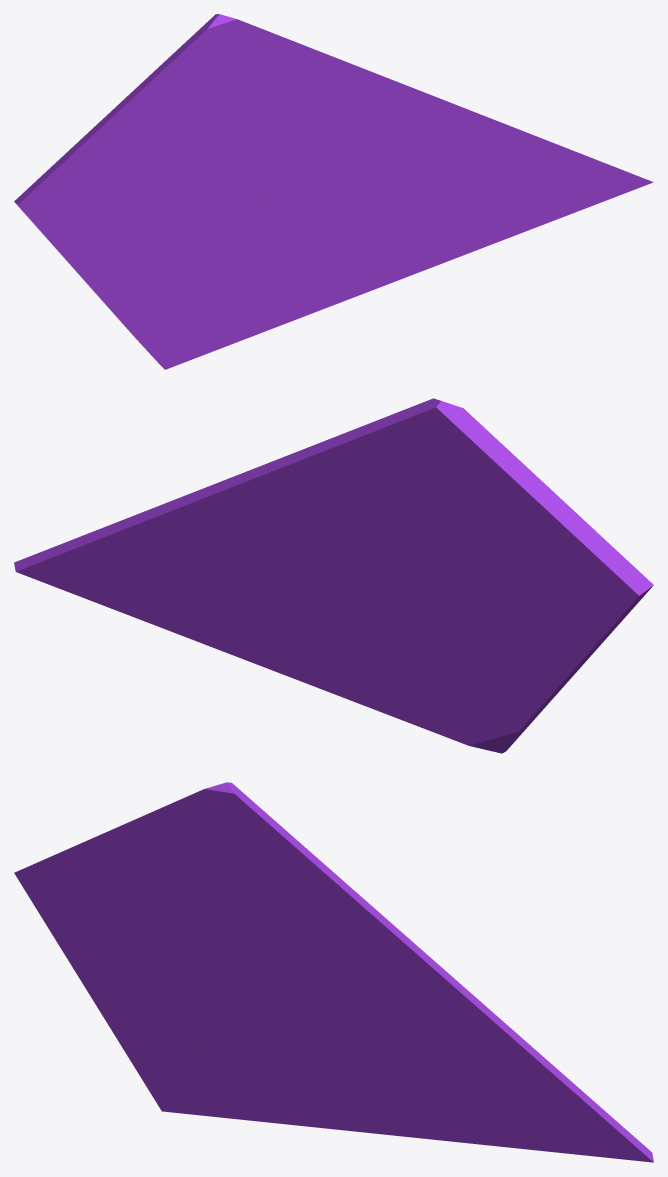
The model's file is Glass_83_1_23_chunks.fbx.
3 renders of one model, top to bottom at view 1: azimuth 30°, elevation 25°; view 2: azimuth 150°, elevation 25°; view 3: azimuth 330°, elevation 25°, orthographic.
Parts seen in each view (by area): view 1: Glass_83_1_23_0, Glass_83_1_23_10, Glass_83_1_23_9, Glass_83_1_23_15, Glass_83_1_23_13, Glass_83_1_23_14, Glass_83_1_23_12, Glass_83_1_23_5, Glass_83_1_23_17, Glass_83_1_23_16, Glass_83_1_23_7, Glass_83_1_23_6 (+2 smaller); view 2: Glass_83_1_23_0, Glass_83_1_23_8, Glass_83_1_23_2, Glass_83_1_23_16, Glass_83_1_23_7, Glass_83_1_23_15, Glass_83_1_23_9, Glass_83_1_23_1, Glass_83_1_23_6, Glass_83_1_23_12, Glass_83_1_23_13, Glass_83_1_23_17 (+4 smaller); view 3: Glass_83_1_23_0, Glass_83_1_23_10, Glass_83_1_23_15, Glass_83_1_23_9, Glass_83_1_23_13, Glass_83_1_23_14, Glass_83_1_23_12, Glass_83_1_23_16, Glass_83_1_23_5, Glass_83_1_23_17, Glass_83_1_23_7, Glass_83_1_23_6 (+3 smaller).
Boxes of the visible parts, <box> form: Glass_83_1_23_0: <box>14,57,221,325</box>; Glass_83_1_23_10: <box>171,16,351,162</box>; Glass_83_1_23_9: <box>212,122,401,198</box>; Glass_83_1_23_15: <box>338,64,442,189</box>; Glass_83_1_23_13: <box>227,191,340,295</box>; Glass_83_1_23_14: <box>307,194,565,252</box>; Glass_83_1_23_12: <box>323,206,588,298</box>; Glass_83_1_23_5: <box>126,262,256,369</box>; Glass_83_1_23_17: <box>395,148,595,207</box>; Glass_83_1_23_16: <box>476,124,653,204</box>; Glass_83_1_23_7: <box>122,191,238,343</box>; Glass_83_1_23_6: <box>210,291,350,352</box>; Glass_83_1_23_0: <box>438,439,653,717</box>; Glass_83_1_23_8: <box>303,400,484,529</box>; Glass_83_1_23_2: <box>35,575,272,640</box>; Glass_83_1_23_16: <box>14,495,215,579</box>; Glass_83_1_23_7: <box>408,612,542,740</box>; Glass_83_1_23_15: <box>209,443,320,574</box>; Glass_83_1_23_9: <box>264,507,450,574</box>; Glass_83_1_23_1: <box>271,571,454,631</box>; Glass_83_1_23_6: <box>303,674,474,747</box>; Glass_83_1_23_12: <box>196,629,344,681</box>; Glass_83_1_23_13: <box>336,620,417,678</box>; Glass_83_1_23_17: <box>130,540,255,577</box>; Glass_83_1_23_0: <box>14,804,218,1047</box>; Glass_83_1_23_10: <box>171,784,349,946</box>; Glass_83_1_23_15: <box>336,894,458,1042</box>; Glass_83_1_23_9: <box>209,925,400,1055</box>; Glass_83_1_23_13: <box>224,962,338,1114</box>; Glass_83_1_23_14: <box>304,1004,563,1142</box>; Glass_83_1_23_12: <box>320,1079,587,1155</box>; Glass_83_1_23_16: <box>459,983,653,1162</box>; Glass_83_1_23_5: <box>122,1038,253,1115</box>; Glass_83_1_23_17: <box>393,1025,595,1156</box>; Glass_83_1_23_7: <box>128,959,235,1042</box>; Glass_83_1_23_6: <box>207,1077,348,1130</box>.
Bounding box in the file's own units: 1051 × 533 × 27.2.
